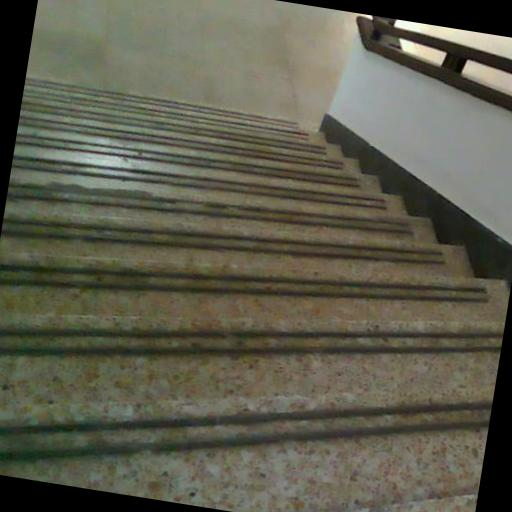stairs: (0, 80, 509, 511)
